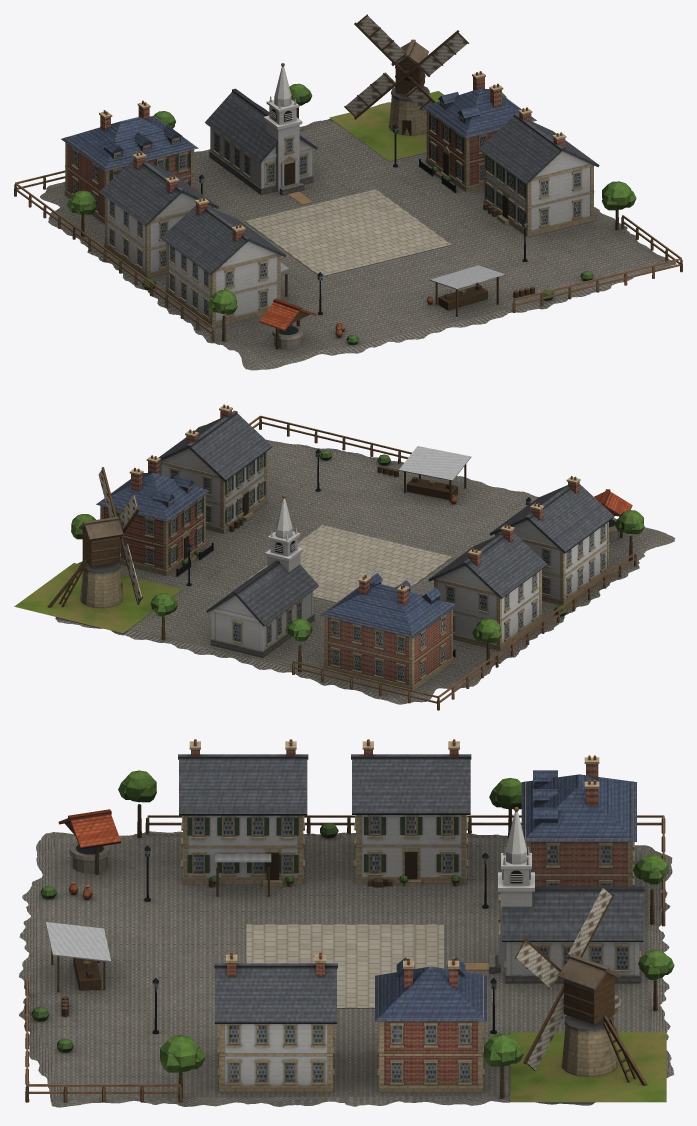
The model's file is gunpowder-town-small-b-colonies-eb41c1c0.glb.
3 renders of one model, top to bottom at view 1: azimuth 30°, elevation 25°; view 2: azimuth 150°, elevation 25°; view 3: azimuth 270°, elevation 25°, orthographic. The views are drawn at different scales.
Visible parts, largest first — view 1: LOD0; view 2: LOD0; view 3: LOD0.
Boxes of the visible parts, box(x1,y1,x2,y2) form: LOD0: box(14, 14, 682, 370); LOD0: box(14, 404, 675, 710); LOD0: box(19, 739, 674, 1107).
Size of what is drawn, in the model's own units: 4.02 by 1.1 by 4.06.
Materials: 3 (3 with a texture image).
